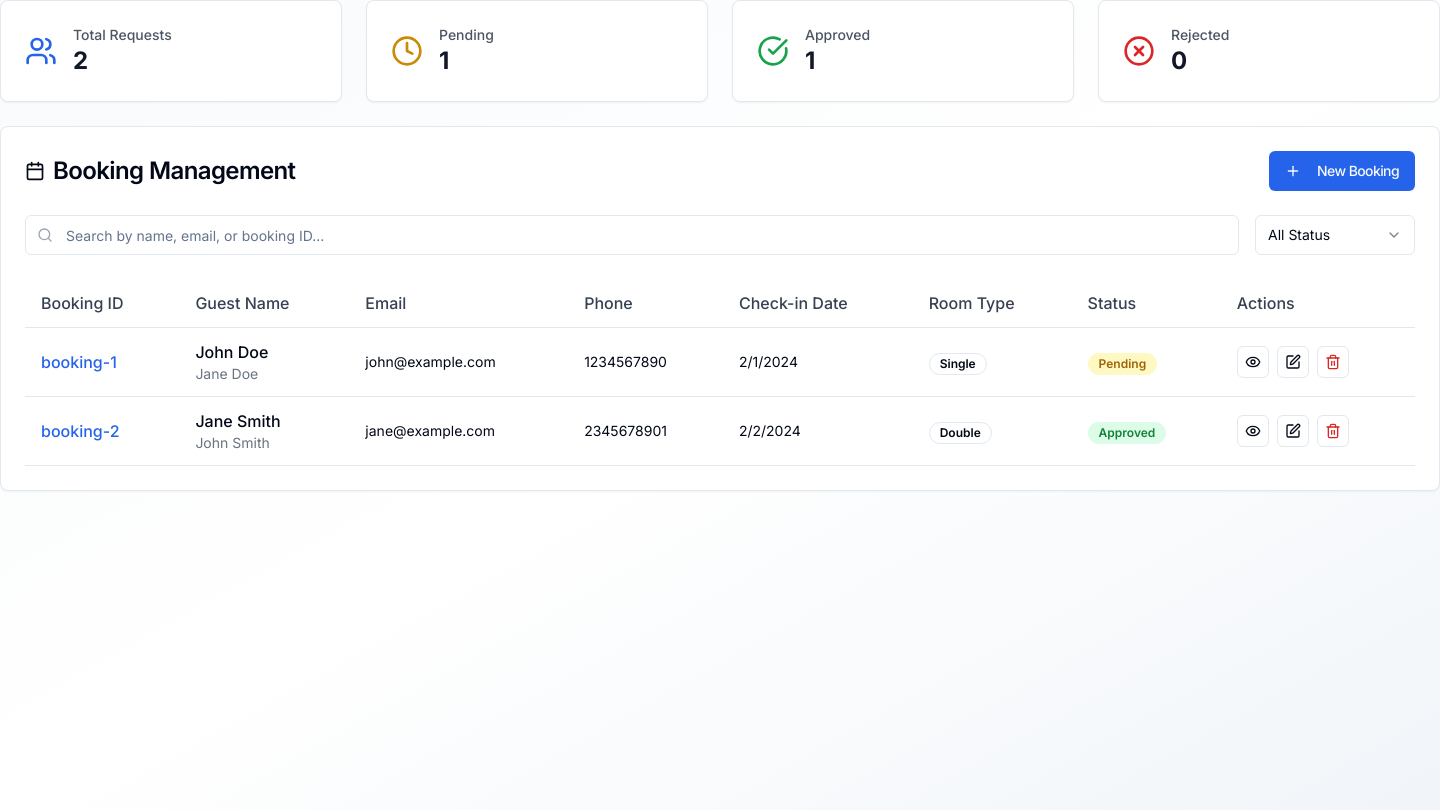
Test: BookingManagement Component › opens create booking dialog
Click the button "New Booking": (1342, 171) [1269,151,1415,191]
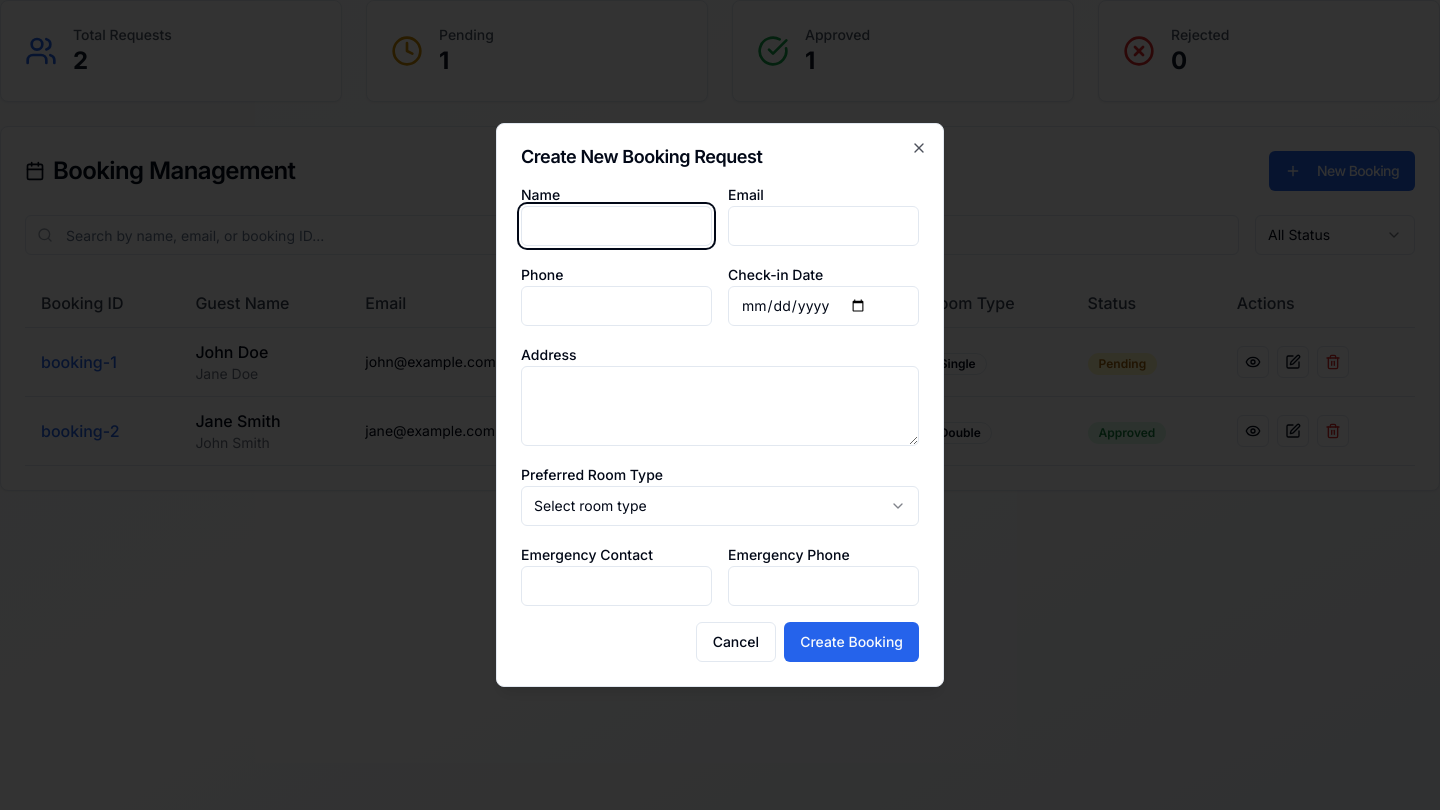
expect the heading "Create New Booking Request" is shown: met, box [521,146,762,167]
